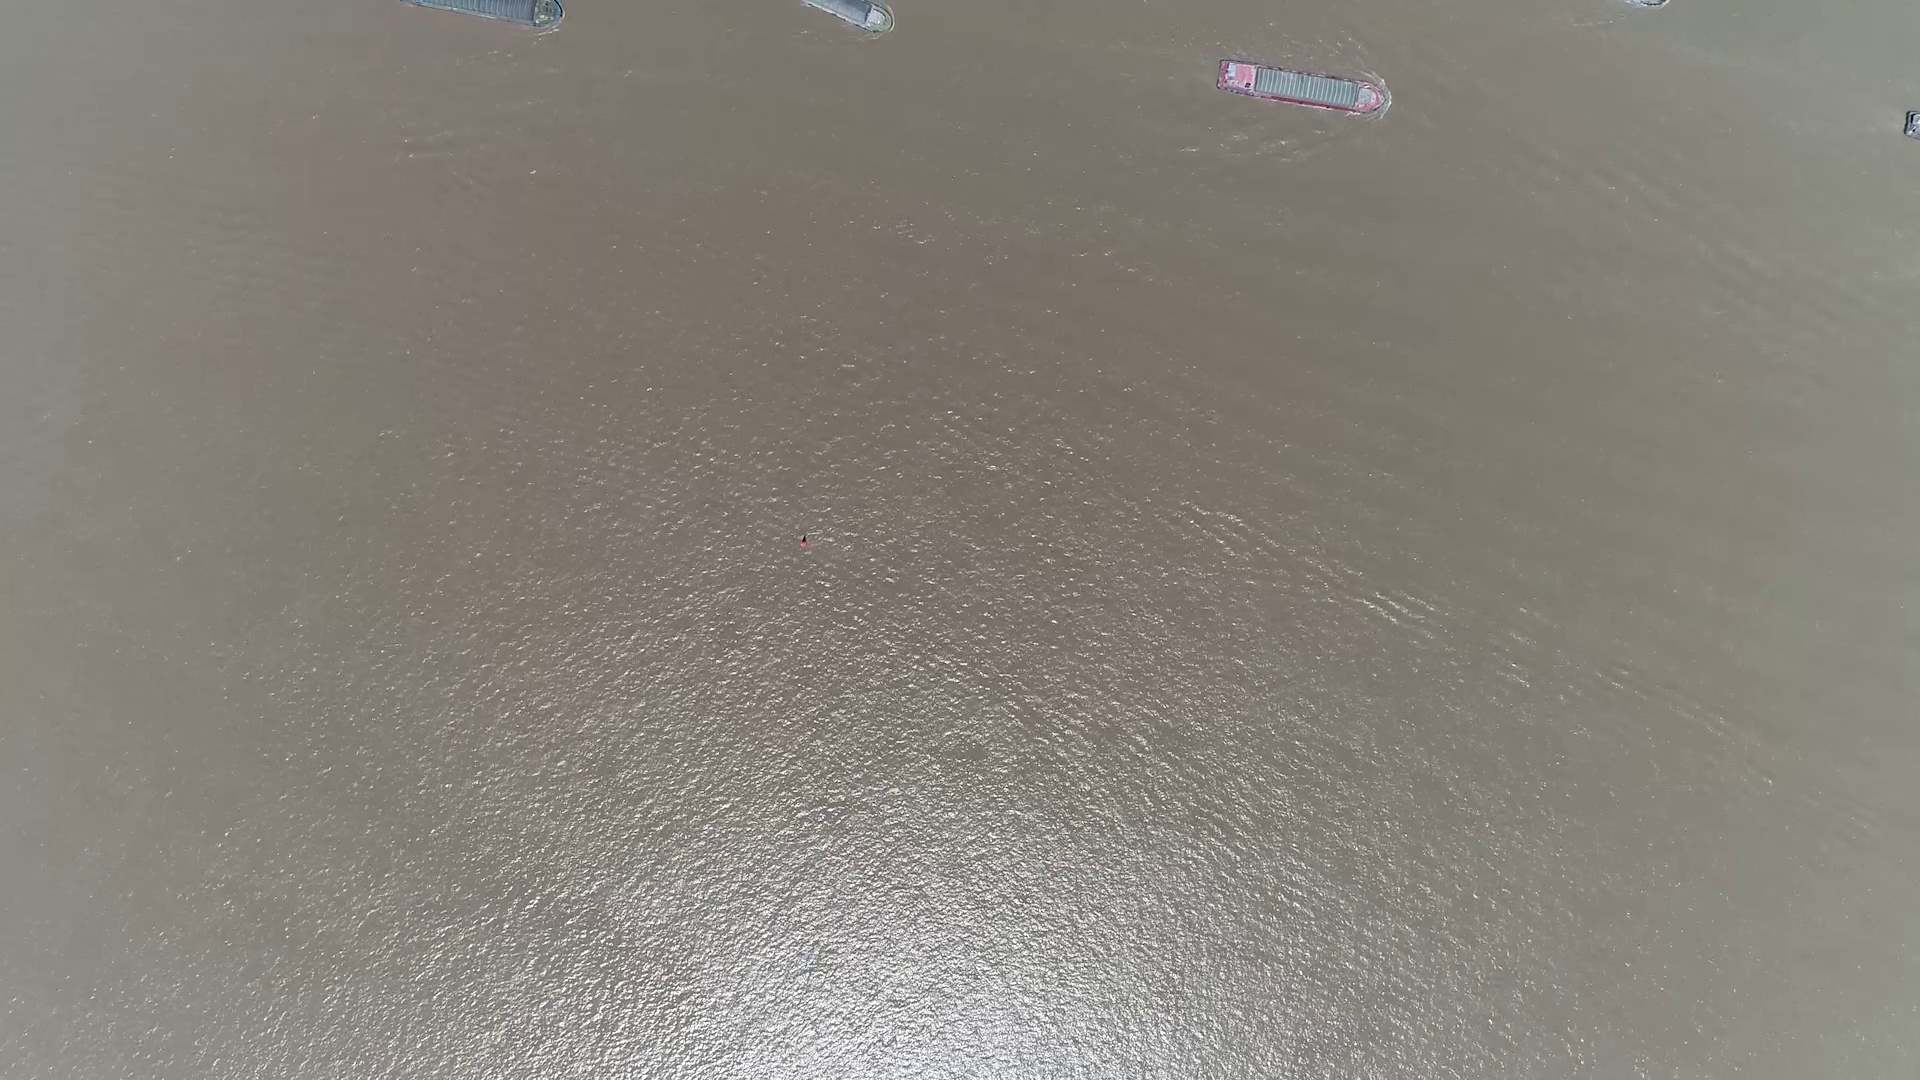ship: (1215, 61, 1389, 115)
